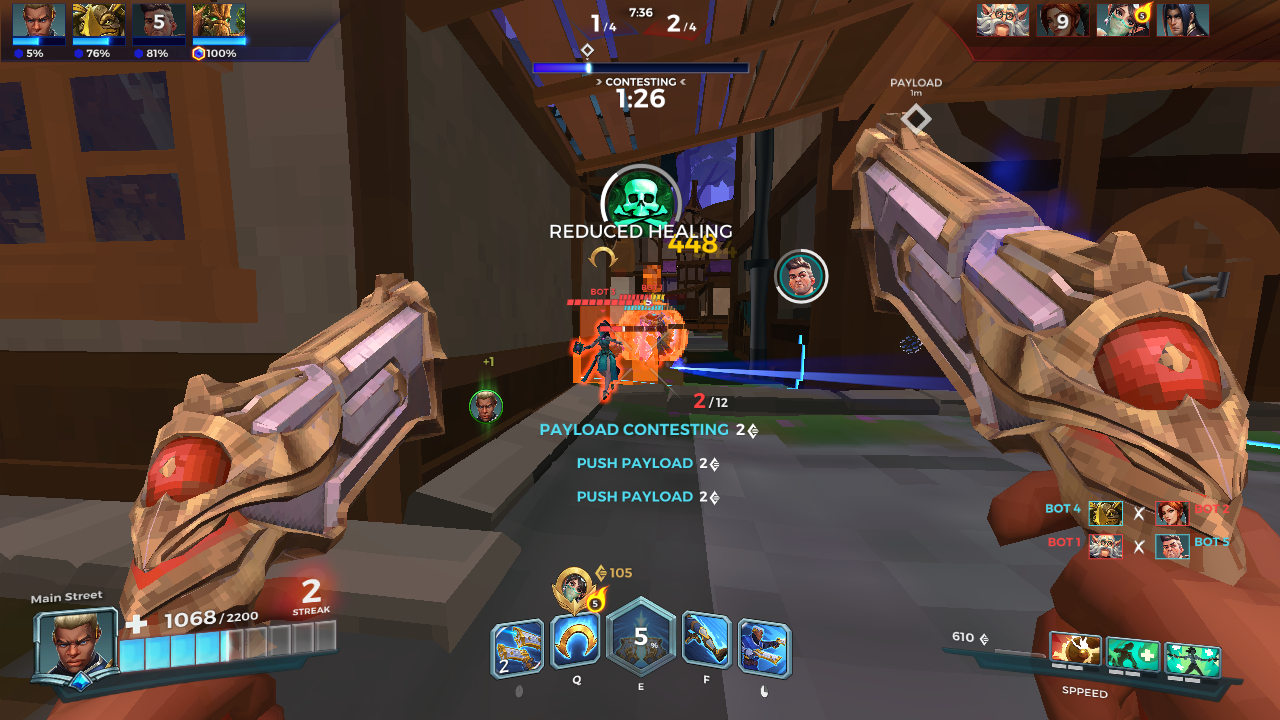model: (573, 311, 624, 399)
